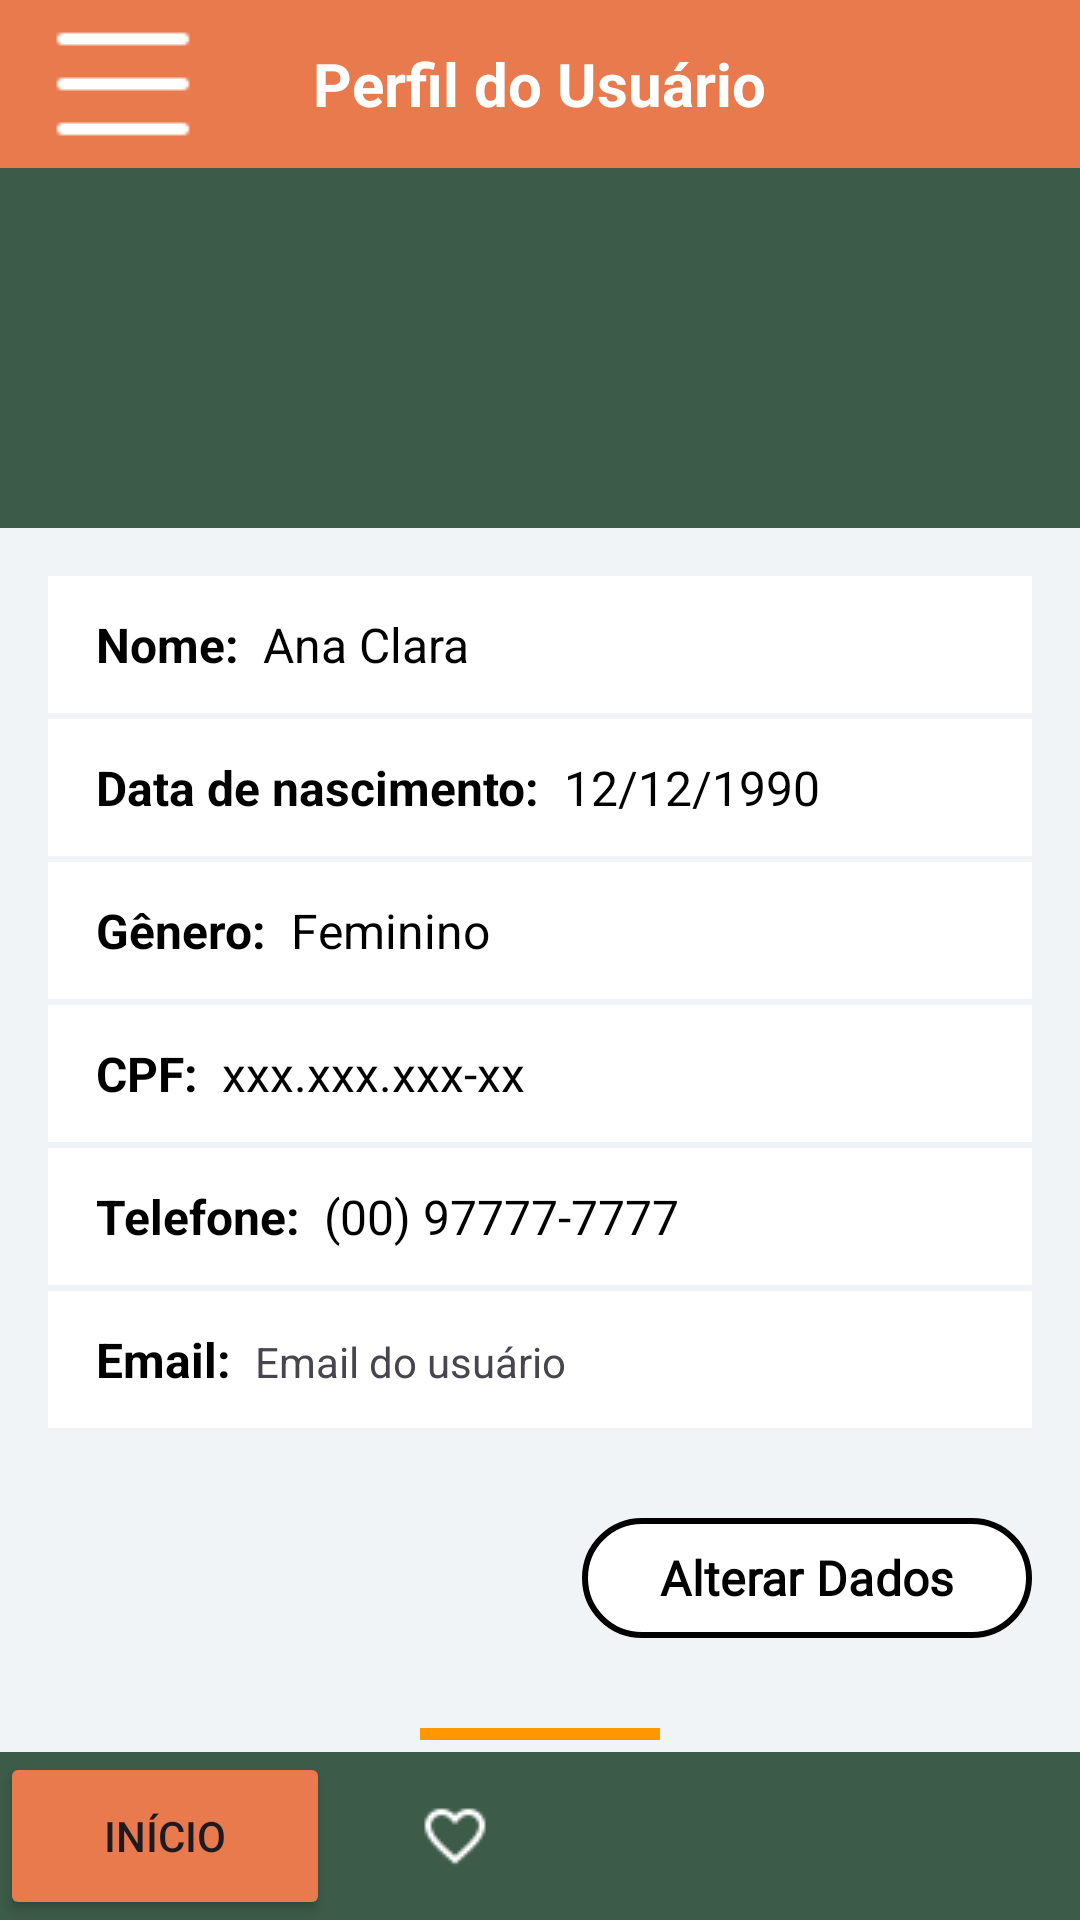

Icon click points for this 1080×1920 phone screenshot, format (x=x, y=y):
Abrir Menu: (x=123, y=84)
Favoritos: (x=455, y=1836)
